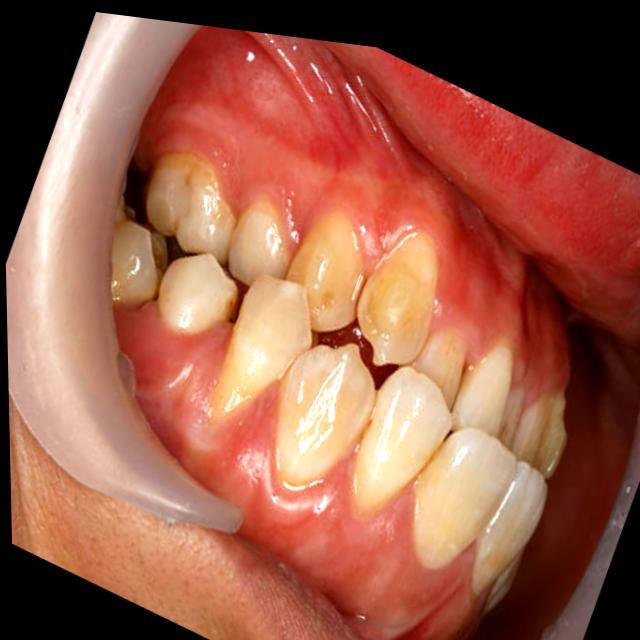calculus: (375, 234, 436, 316), (305, 216, 364, 276), (350, 414, 373, 497), (548, 396, 566, 433)
